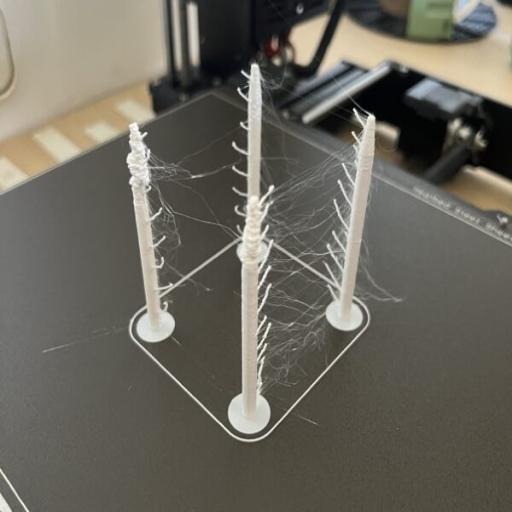stringing: (263, 129, 361, 398), (149, 154, 234, 288), (260, 69, 290, 139)
